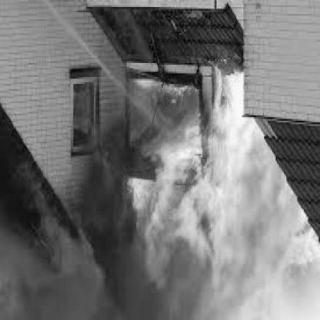Fire: (103, 70, 316, 317), (72, 80, 95, 156)
Smoke: (0, 163, 128, 320)
